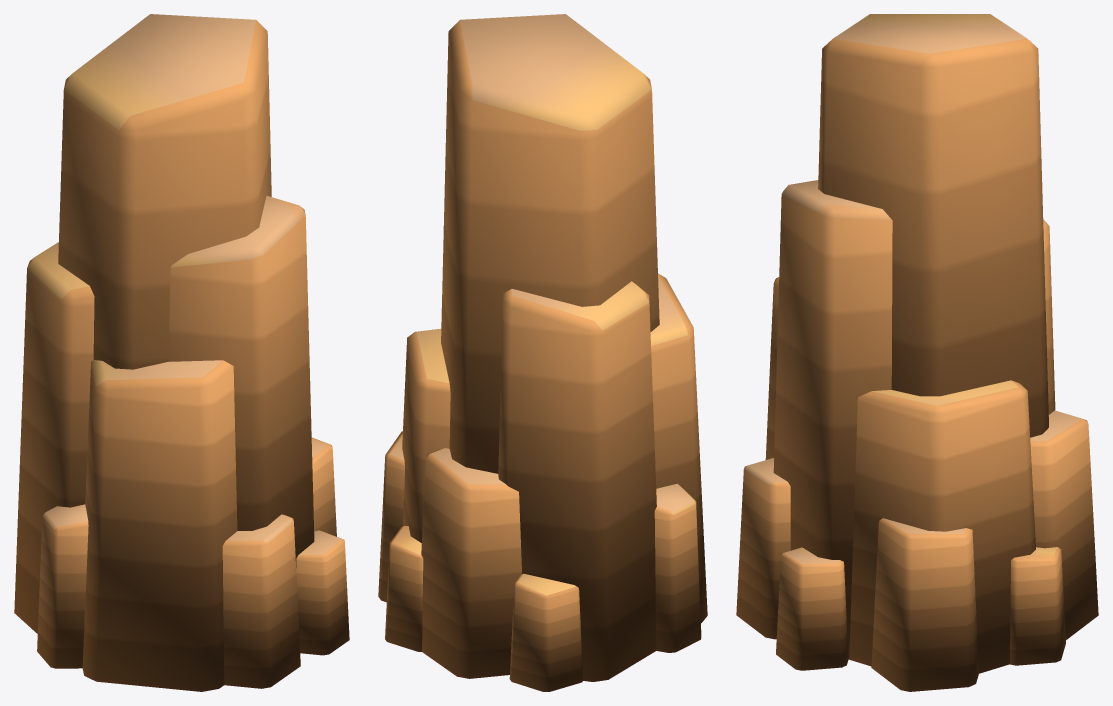
Rendered from cliff_006.fbx.
3 renders of one model, left to right at view 1: azimuth 30°, elevation 25°; view 2: azimuth 150°, elevation 25°; view 3: azimuth 270°, elevation 25°, orthographic. The views are drawn at different scales.
Parts seen in each view (by area): view 1: cliff.006; view 2: cliff.006; view 3: cliff.006.
Boxes of the visible parts, x1=… form: cliff.006: x1=14, y1=14, x2=349, y2=691; cliff.006: x1=378, y1=14, x2=707, y2=691; cliff.006: x1=736, y1=14, x2=1098, y2=691.
Bounding box in the file's own units: 41.92 × 78.36 × 42.8.
